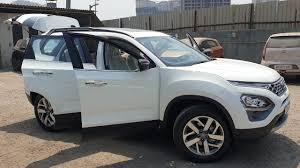non-ambulance: (22, 28, 289, 161), (262, 32, 299, 74), (194, 37, 223, 57)
